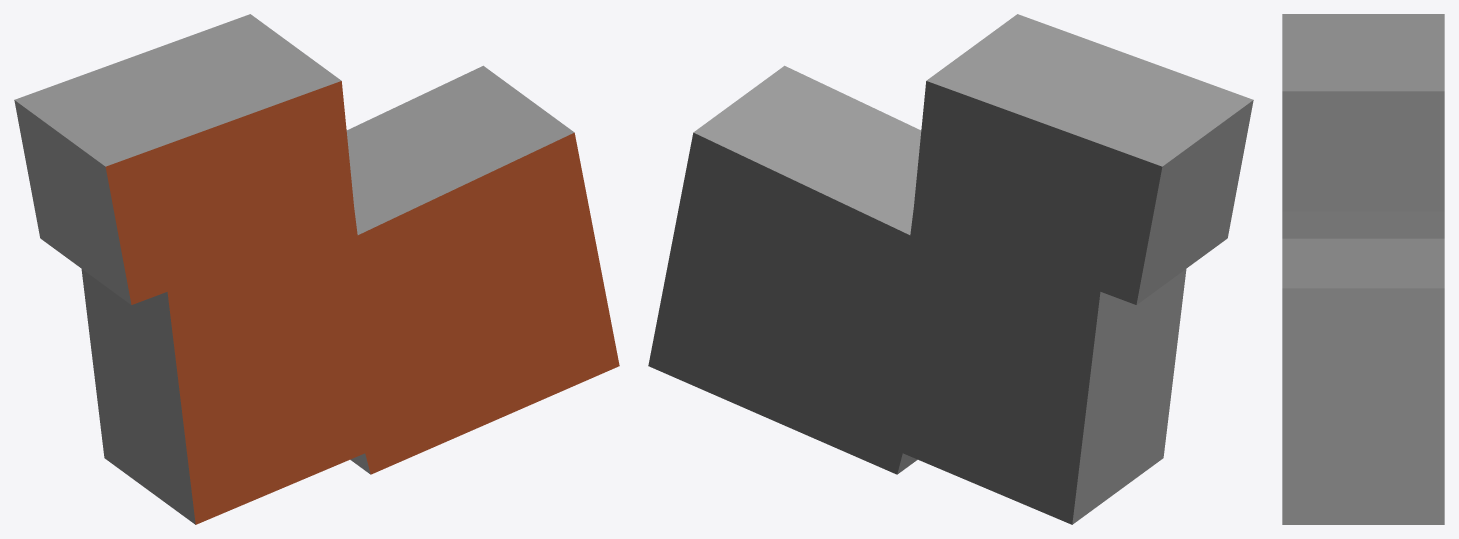
Rendered from construction_5620_assumed_A_Casa_h6m.obj.
3 renders of one model, left to right at view 1: azimuth 30°, elevation 25°; view 2: azimuth 150°, elevation 25°; view 3: azimuth 270°, elevation 25°, orthographic. The views are drawn at different scales.
Parts seen in each view (by area): view 1: construction_5620_assumed_A_Casa; view 2: construction_5620_assumed_A_Casa; view 3: construction_5620_assumed_A_Casa.
Boxes of the visible parts, x1,y1,x2,y2 form: construction_5620_assumed_A_Casa: (14, 14, 619, 524); construction_5620_assumed_A_Casa: (648, 14, 1253, 524); construction_5620_assumed_A_Casa: (1282, 14, 1444, 524).
Bounding box in the file's own units: 19.51 × 14.81 × 6.
